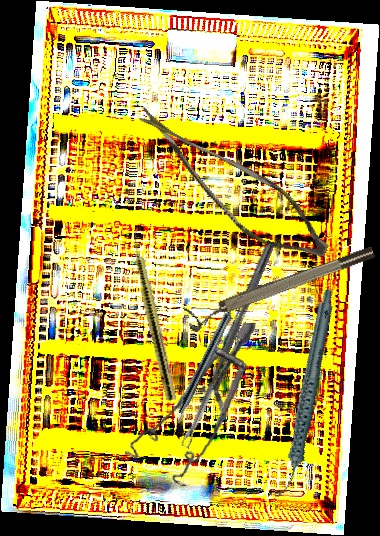Fixation Ring: (182, 242, 380, 334)
Handpiece: (237, 287, 375, 499), (125, 224, 180, 402), (175, 292, 245, 416)
Micro Scissor: (112, 106, 348, 270)
Speculum: (122, 311, 257, 492)
Surgical Spoon: (179, 239, 276, 449)
